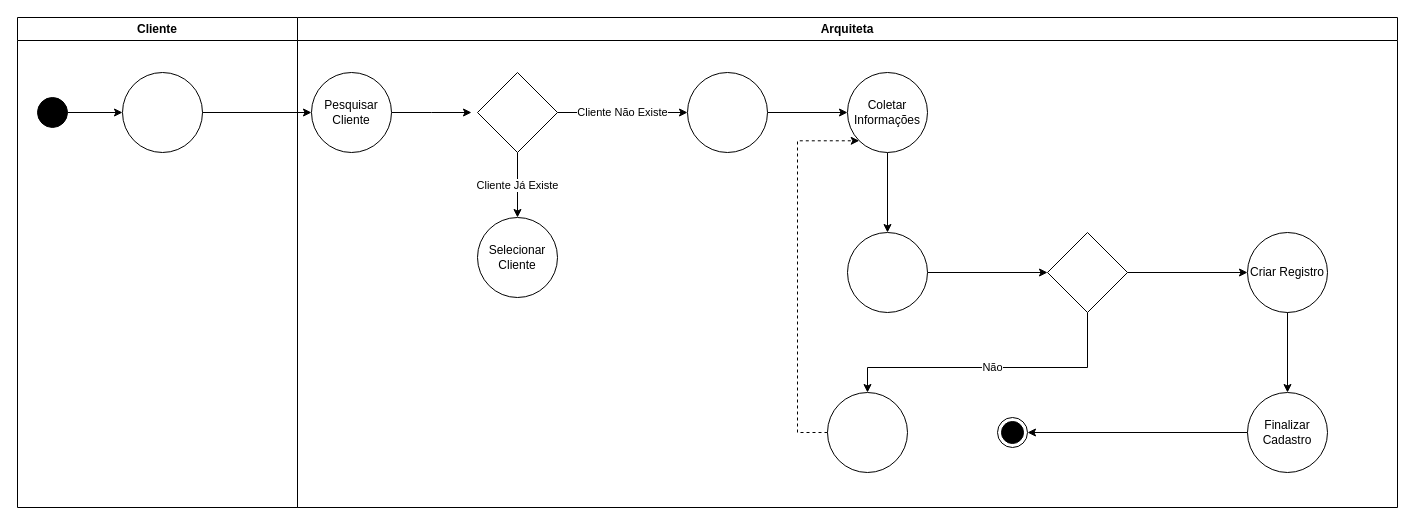
The diagram is 1415 pixels wide and 525 high, and some of its shapes have lost their labels. Here are the shapes that lost their labels. From the top down, the box of each, then its label:
(122, 72, 202, 152): Solicita Projeto
(686, 72, 768, 152): Cadastrar Cliente
(846, 232, 928, 312): Validar Dados
(826, 392, 908, 472): Notificar Erro
